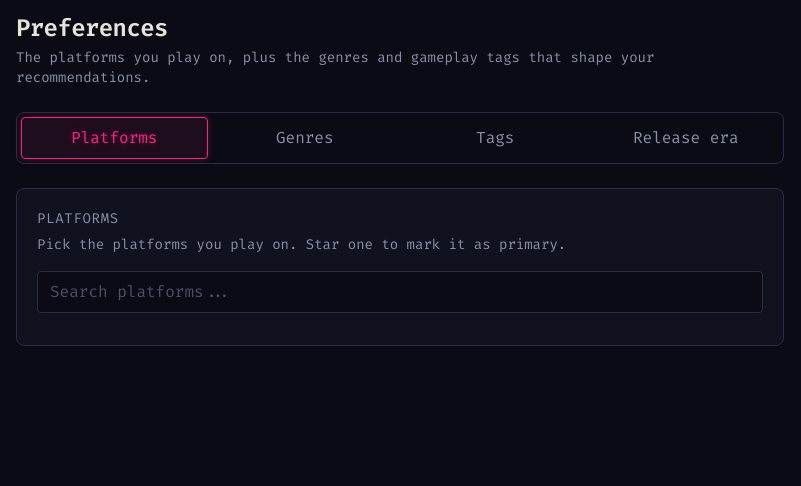
Test case: Preferences page › renders the release-era section with the five decade buckets and enables Save on chip click
The image size is (801, 486).
Click the tab "Release era" at coordinates (686, 138), box [592, 117, 779, 159]
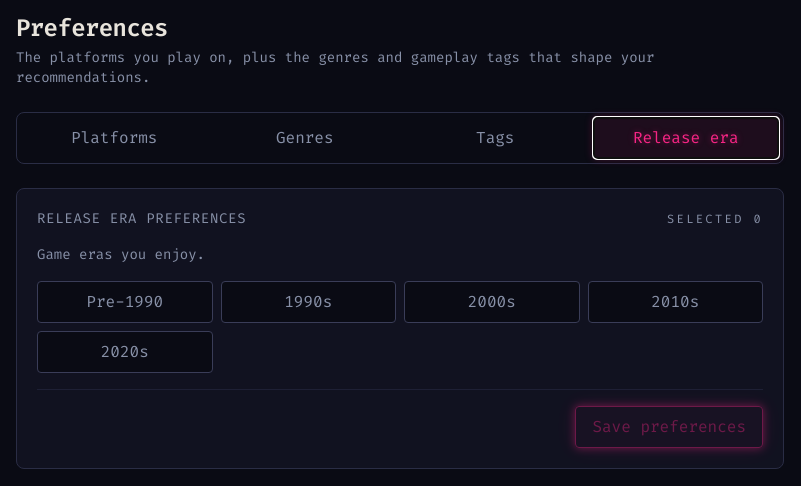
Check: the text "Release era preferences" is shown, box [37, 209, 246, 229]
Check: the button "Pre-1990" is shown, box [37, 281, 212, 323]
Check: the button "1990s" is shown, box [220, 281, 396, 323]
Click the button "2020s" at coordinates (125, 352), box [37, 331, 212, 373]
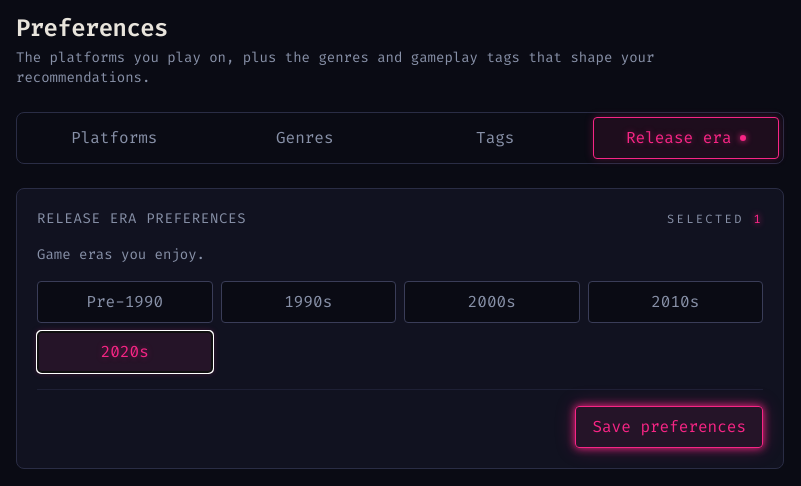
Check: the button "Save preferences" is enabled, box [575, 406, 763, 448]
